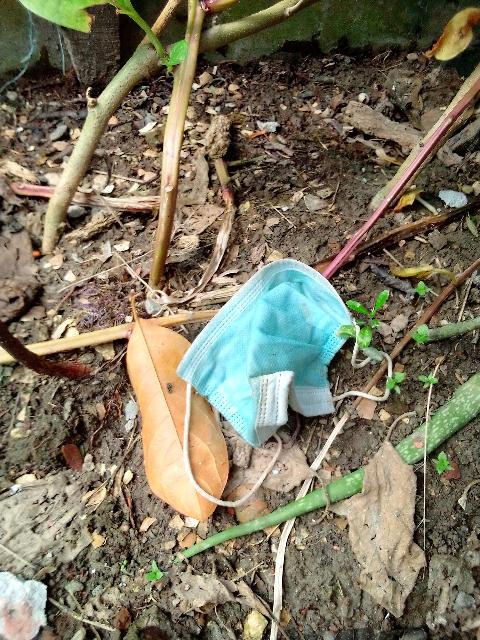mask: (198, 276, 357, 433)
